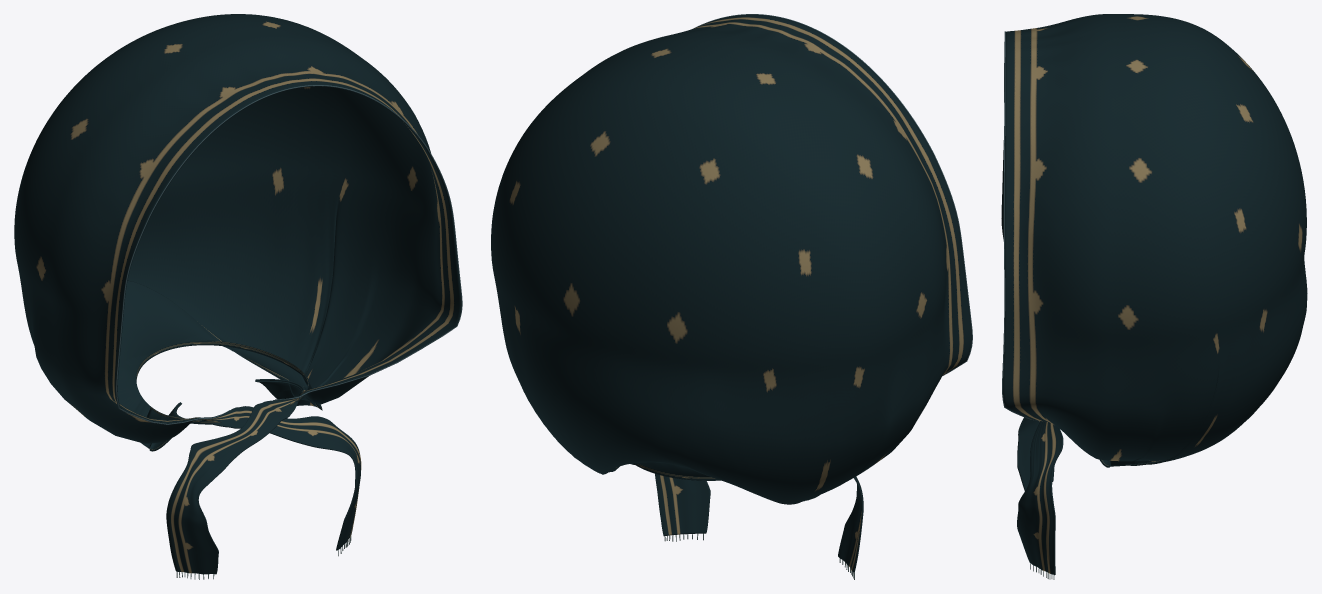
Rendered from Feminine-ponytail-jersey-pashmina250-headgear.glb.
3 renders of one model, left to right at view 1: azimuth 30°, elevation 25°; view 2: azimuth 150°, elevation 25°; view 3: azimuth 270°, elevation 25°, orthographic. The views are drawn at different scales.
Visible parts, largest first — view 1: 226 headgear / Headwear / continuous woven pashmina239, 226 headgear / Headwear / face edge239; view 2: 226 headgear / Headwear / continuous woven pashmina239, 226 headgear / Headwear / face edge239; view 3: 226 headgear / Headwear / continuous woven pashmina239, 226 headgear / Headwear / face edge239.
Part boxes in pixels (box(x1,y1,x2,y2)): 226 headgear / Headwear / continuous woven pashmina239: box(14, 14, 461, 574); 226 headgear / Headwear / face edge239: box(116, 85, 462, 424); 226 headgear / Headwear / continuous woven pashmina239: box(491, 14, 971, 573); 226 headgear / Headwear / face edge239: box(693, 14, 972, 375); 226 headgear / Headwear / continuous woven pashmina239: box(1001, 14, 1307, 575); 226 headgear / Headwear / face edge239: box(1002, 31, 1041, 421).
Bounding box in the file's own units: 1.07 × 1.37 × 0.7569.
Materials: 3 (1 with a texture image).
